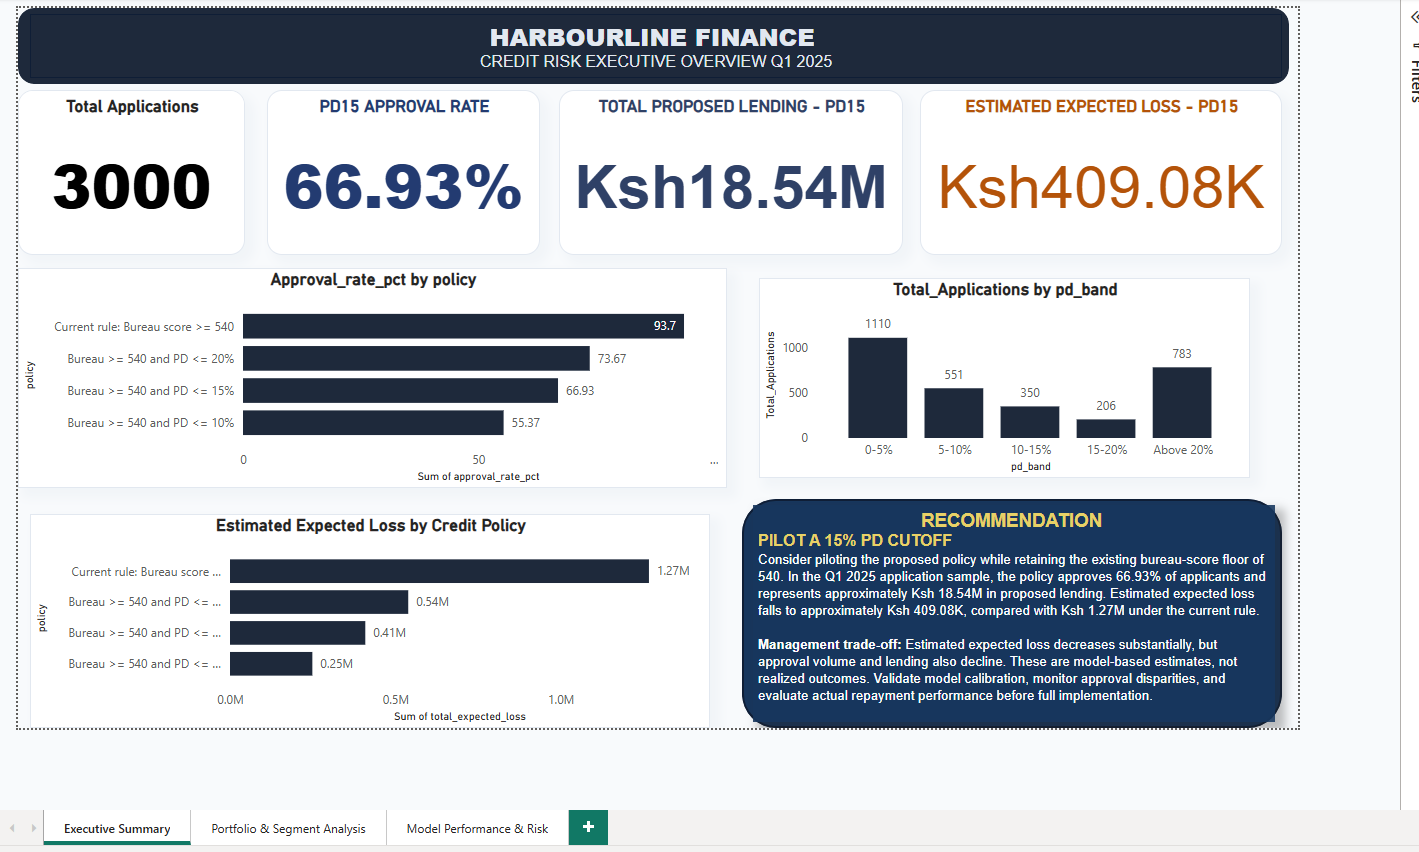

This screenshot's page, from the dashboard's own definition file:
{"tool":"powerbi","page":{"name":"Executive Summary","canvas":[1280,720],"ordinal":0},"visuals":[{"type":"card","title":"PD15 APPROVAL RATE","fields":{"Values":["Measures .PD15 Approval Rate"]},"box":[249,82.4,262.4,164.8],"z":0},{"type":"card","title":"Total Applications","fields":{"Values":["Measures .Total_Applications"]},"box":[0,82.4,226.6,164.8],"z":1000},{"type":"card","title":"TOTAL PROPOSED LENDING - PD15","fields":{"Values":["Measures .Total Proposed Lending - PD15"]},"box":[525.7,82.4,359.1,164.8],"z":2000},{"type":"card","title":"ESTIMATED EXPECTED LOSS - PD15","fields":{"Values":["Measures .Estimated Expected Loss - PD15"]},"box":[894.6,82.4,369.9,164.8],"z":3000},{"type":"clusteredBarChart","title":"Approval_rate_pct by policy","fields":{"Category":["policy_comparison.policy"],"Y":["Sum(policy_comparison.approval_rate_pct)"]},"box":[0,259.7,709.3,220.3],"z":4000},{"type":"clusteredColumnChart","fields":{"Category":["q1_2025_scored_applications.pd_band"],"Y":["Measures .Total_Applications"]},"box":[741.5,269.6,490.7,200.6],"z":5000},{"type":"clusteredBarChart","title":"Estimated Expected Loss by Credit Policy","fields":{"Category":["policy_comparison.policy"],"Y":["Sum(policy_comparison.total_expected_loss)"]},"box":[11.6,506,680.6,214],"z":6000},{"type":"shape","box":[0,0,1270.7,76.1],"z":7000},{"type":"textbox","box":[11.6,6.3,1252.8,63.6],"z":8000},{"type":"shape","box":[723.6,490.7,540.9,229.3],"z":9000},{"type":"textbox","box":[735.2,497,522.1,216.7],"z":10000}]}

Visuals, with their boxes on the page's 1280x720 design canvas (x1, y1, x2, y2). These are canvas units, not pixel positions in the 1419x852 screenshot, which may show the page scaled, cropped or inside an application window:
"PD15 APPROVAL RATE" card: BBox(249, 82, 511, 247)
"Total Applications" card: BBox(0, 82, 227, 247)
"TOTAL PROPOSED LENDING - PD15" card: BBox(526, 82, 885, 247)
"ESTIMATED EXPECTED LOSS - PD15" card: BBox(895, 82, 1264, 247)
"Approval_rate_pct by policy" clusteredBarChart: BBox(0, 260, 709, 480)
clusteredColumnChart - q1_2025_scored_applications.pd_band x Measures .Total_Applications: BBox(742, 270, 1232, 470)
"Estimated Expected Loss by Credit Policy" clusteredBarChart: BBox(12, 506, 692, 720)
shape: BBox(0, 0, 1271, 76)
textbox: BBox(12, 6, 1264, 70)
shape: BBox(724, 491, 1264, 720)
textbox: BBox(735, 497, 1257, 714)
